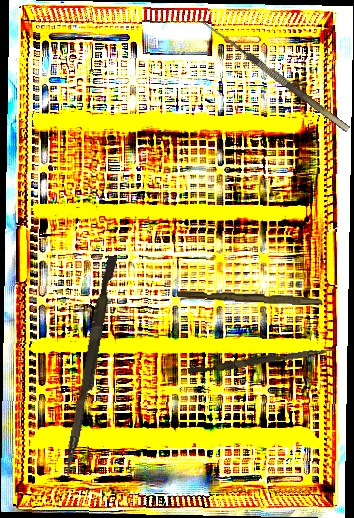Hook Surgical: (194, 17, 351, 141)
Pusher: (63, 254, 118, 477), (187, 342, 335, 378)
Scalpel Handle: (176, 289, 323, 306)
